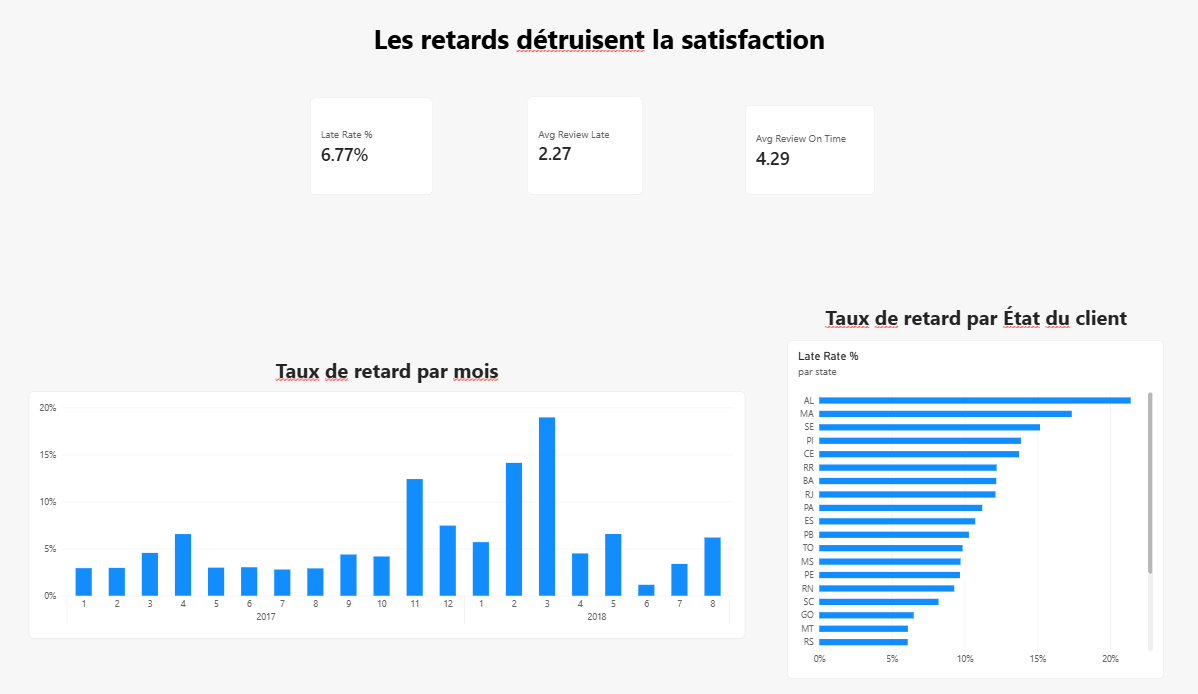

What the dashboard file says about the page in this screenshot:
{"tool":"powerbi","page":{"name":"Page 1","canvas":[1920,1080],"ordinal":0},"visuals":[{"type":"textbox","box":[499.5,0,917.4,281],"z":0},{"type":"cardVisual","fields":{"Data":["fact_orders.Late Rate %"]},"box":[496,124,196,156],"z":1},{"type":"cardVisual","fields":{"Data":["fact_orders.Avg Review Late"]},"box":[844,122,184,158],"z":2},{"type":"cardVisual","fields":{"Data":["fact_orders.Avg Review On Time"]},"box":[1192,136,208,144],"z":3},{"type":"clusteredColumnChart","fields":{"Category":["dim_date.year","dim_date.month"],"Y":["fact_orders.Late Rate %"]},"box":[46,594,1146,396],"z":4},{"type":"textbox","box":[366,538,506,56],"z":5},{"type":"clusteredBarChart","fields":{"Category":["dim_customer.state"],"Y":["fact_orders.Late Rate %"]},"box":[1260,512,602,542],"z":6},{"type":"textbox","box":[1214,454,696,86],"z":7}]}

Visuals, with their boxes in screenshot pixels (x1, y1, x2, y2), scaled from the page's 1920x1080 canvas onto the 1198x694 screenshot:
textbox: select_region(312, 0, 884, 181)
cardVisual - fact_orders.Late Rate %: select_region(309, 80, 432, 180)
cardVisual - fact_orders.Avg Review Late: select_region(527, 78, 641, 180)
cardVisual - fact_orders.Avg Review On Time: select_region(744, 87, 874, 180)
clusteredColumnChart - dim_date.year x dim_date.month: select_region(29, 382, 744, 636)
textbox: select_region(228, 346, 544, 382)
clusteredBarChart - dim_customer.state x fact_orders.Late Rate %: select_region(786, 329, 1162, 677)
textbox: select_region(757, 292, 1192, 347)
